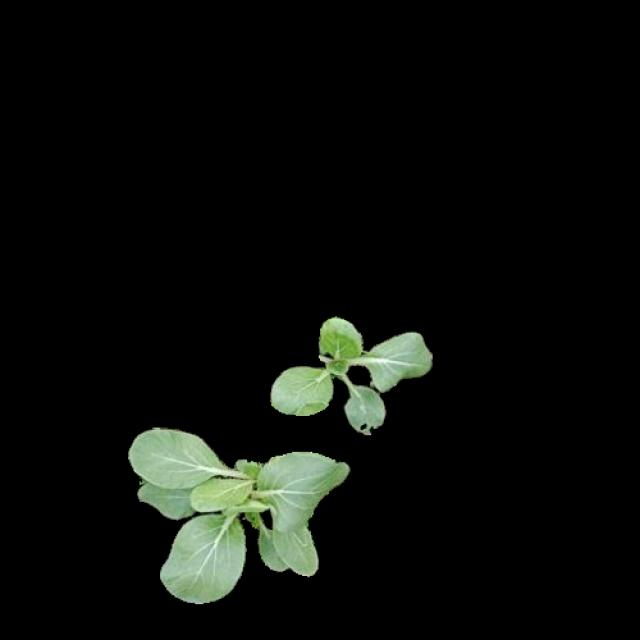healthy: (126, 428, 348, 599)
not-mature: (128, 430, 351, 602), (270, 320, 431, 434)
unhealthy: (343, 385, 387, 435)
